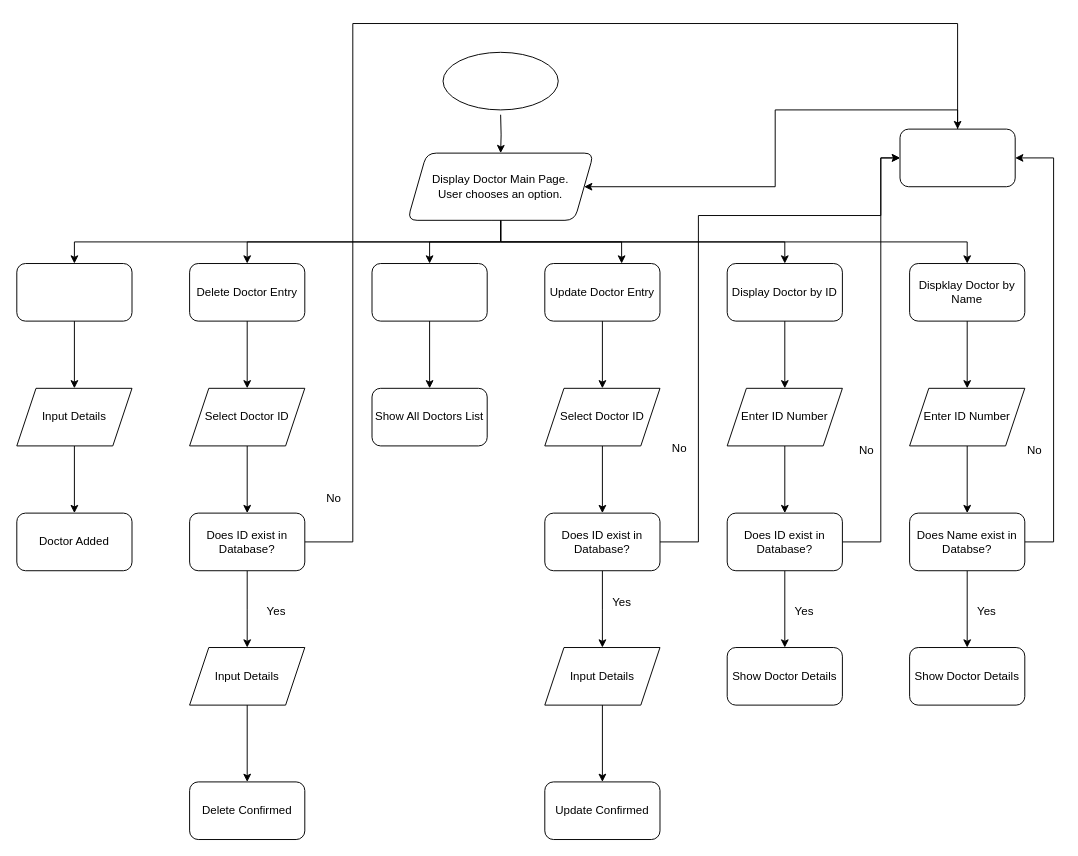
Some shapes in this 1078 by 856 pixel diagram are drawn without their labels. The box of each missing label's shape, as (x1, y1, x2, y2) in pixels:
Create Doctor Entry: (16, 263, 132, 321)
Display All Doctors: (371, 263, 487, 321)
Error Message. Try Again.: (899, 128, 1015, 187)
START: (442, 51, 558, 110)
